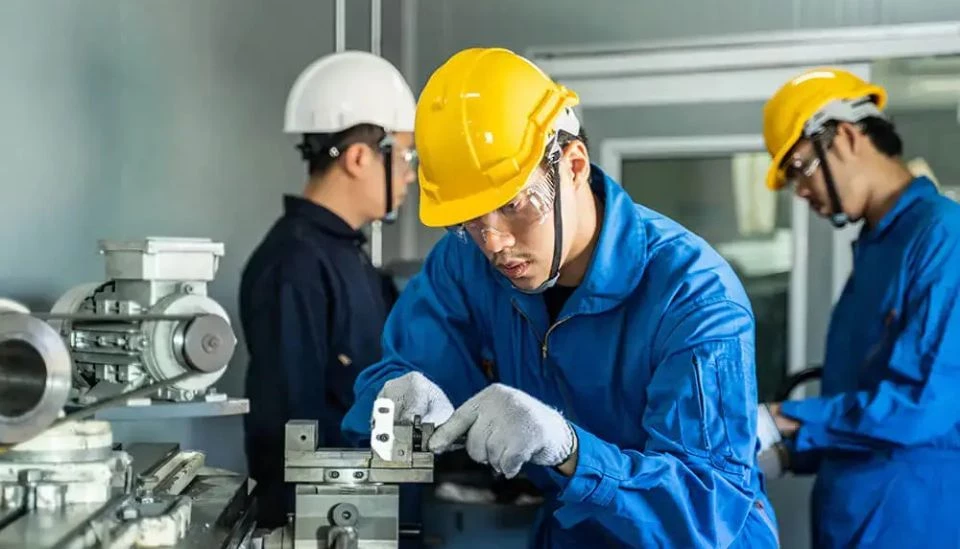Casco de seguridad: (415, 48, 578, 226), (763, 67, 886, 189), (283, 50, 415, 134)
